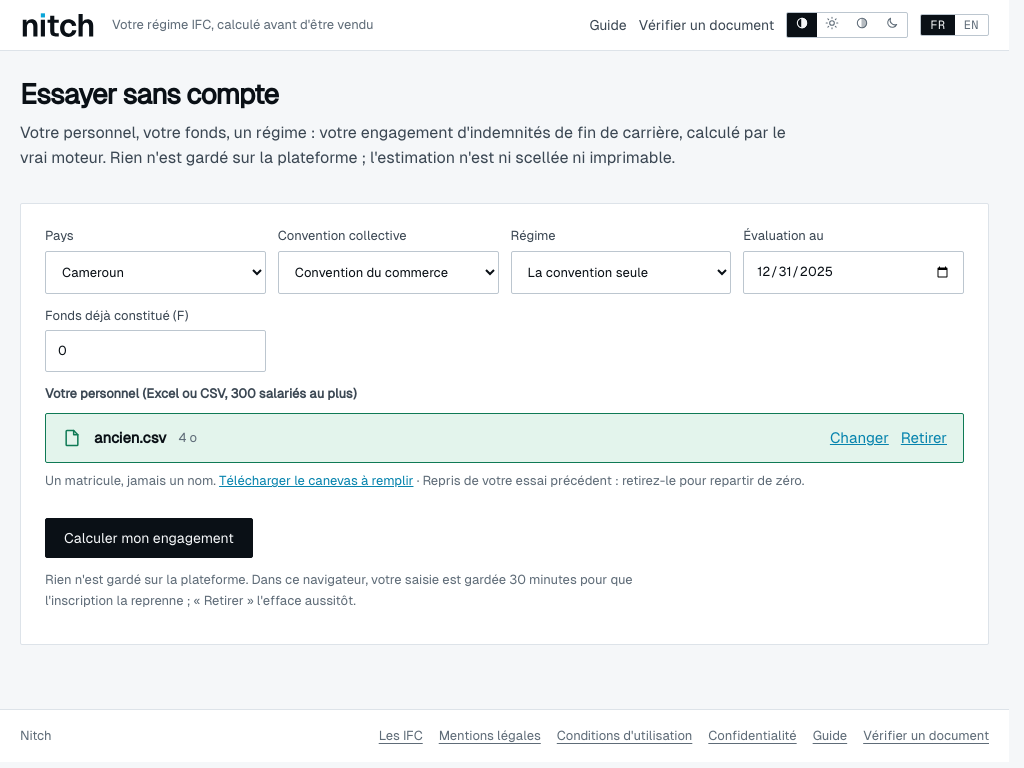
l'essai sans compte › montre le fichier retenu, et « Retirer » l'efface aussi du navigateur
The image size is (1024, 768).
Expected: the text "ancien.csv" is shown, [94, 426, 166, 450]
Expected: the text "Repris de votre essai précédent" is shown, [414, 473, 804, 488]
Click the button with aria-label "Retirer ancien.csv".
click(924, 438)  # box [901, 426, 947, 450]
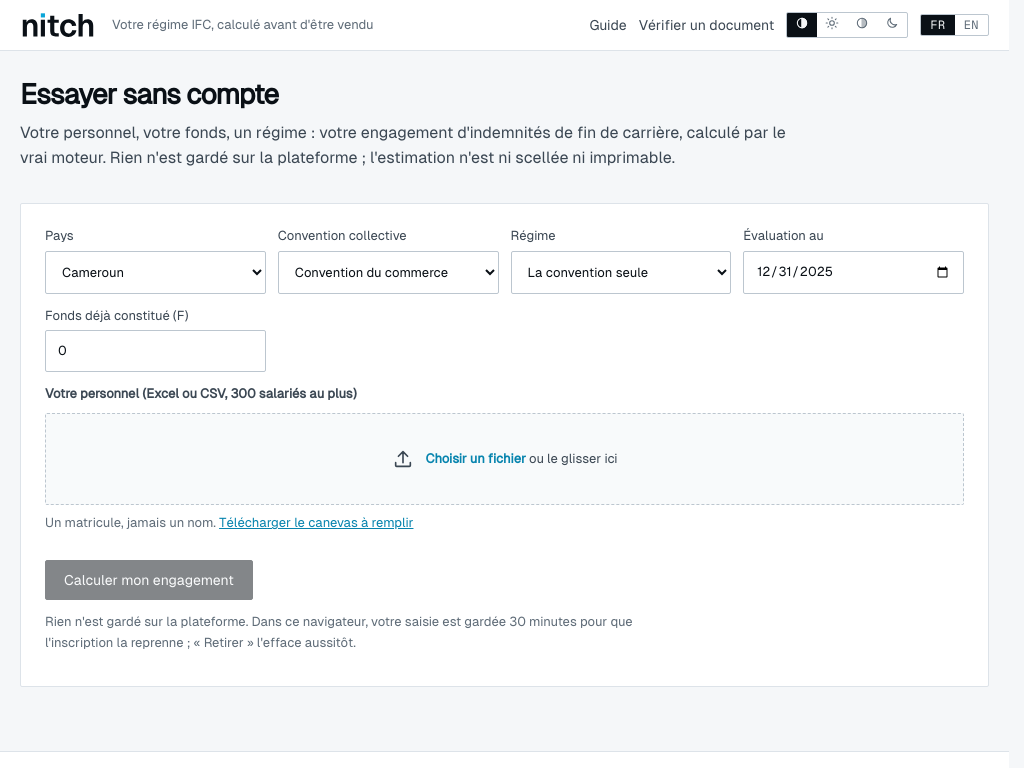
Result: the text "ancien.csv" is gone
Result: the button "Calculer mon engagement" is disabled at [45, 560, 253, 600]
